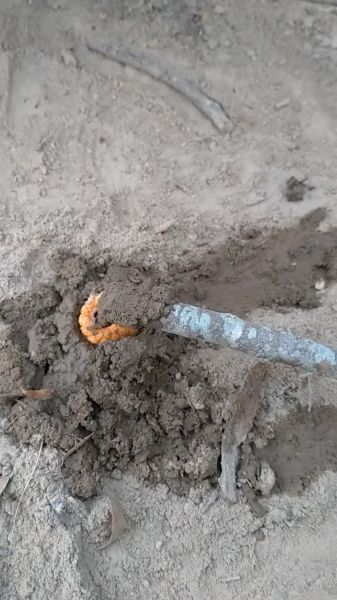eggs: (70, 288, 150, 352)
